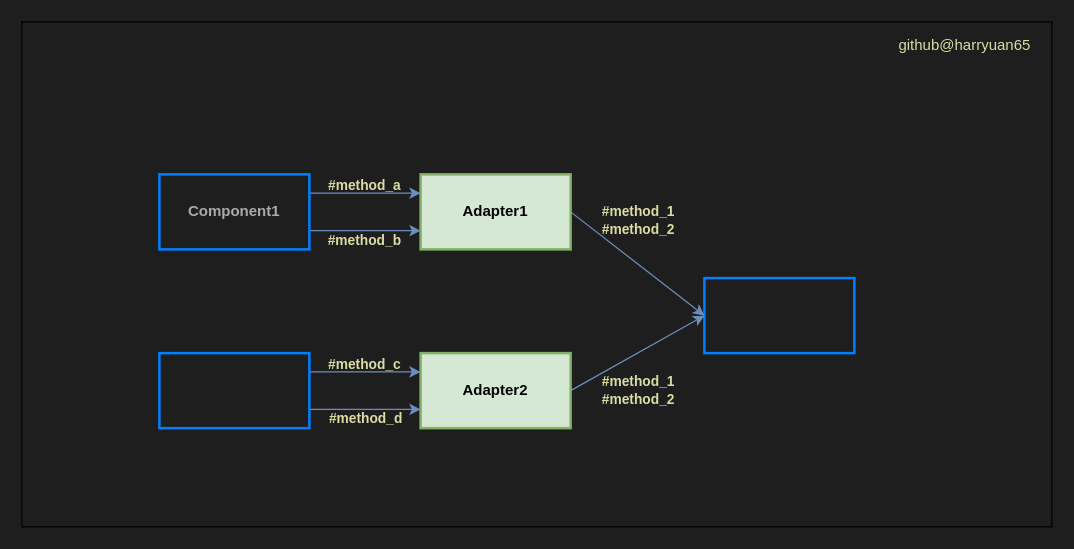
Some shapes in this 1074 by 549 pixel diagram are drawn without their labels. Here are the shapes that lost their labels. From the top down, the centre of each, then its label:
At point 778,315: "ClientApp".
At point 234,390: "Component2".
